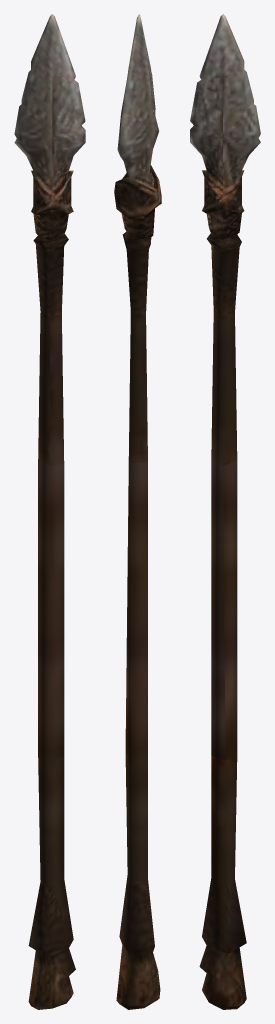
3 views of the same model, side by side, from view 1: azimuth 90°, elevation 25°; view 2: azimuth 150°, elevation 25°; view 3: azimuth 270°, elevation 25° (orthographic).
Parts seen in each view (by area): view 1: tripo_part_2; view 2: tripo_part_2; view 3: tripo_part_2.
Boxes of the visible parts, <box> form: tripo_part_2: <box>14,14,85,1009</box>; tripo_part_2: <box>114,14,161,1009</box>; tripo_part_2: <box>190,14,260,1009</box>.
Bounding box in the file's own units: 0.0431 × 0.9041 × 0.0587.
Materials: 1 (1 with a texture image).
